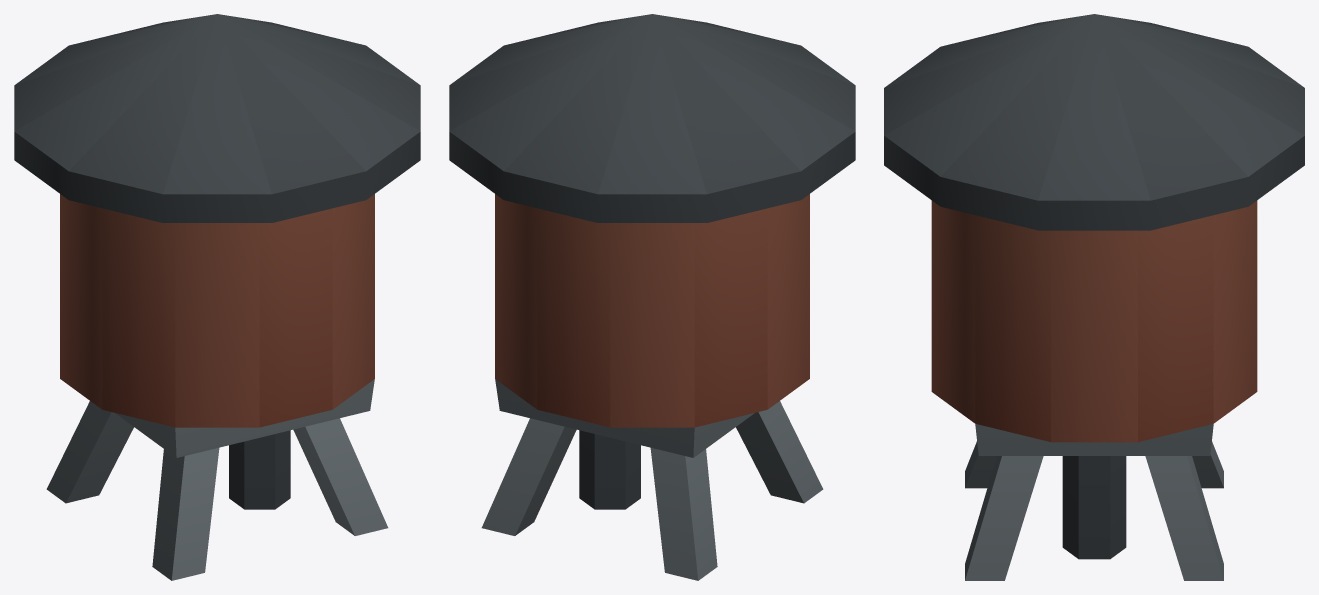
Rendered from city-watertower.glb.
The picture shows the model from 3 angles, left to right: view 1: azimuth 30°, elevation 25°; view 2: azimuth 150°, elevation 25°; view 3: azimuth 270°, elevation 25°; orthographic projection. The views are drawn at different scales.
Visible parts, largest first — view 1: watertower; view 2: watertower; view 3: watertower.
Part boxes in pixels (<box>): watertower: <box>14,14,420,580</box>; watertower: <box>449,14,855,580</box>; watertower: <box>884,14,1304,580</box>.
Size of the model in its own units: 0.4989 by 0.67 by 0.4989.
